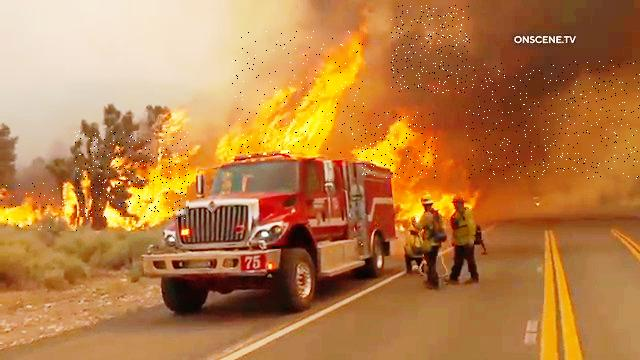fire: (229, 29, 364, 155), (75, 132, 189, 220), (362, 112, 437, 178), (0, 183, 77, 231)
smoke: (466, 60, 640, 180), (391, 5, 470, 93)
